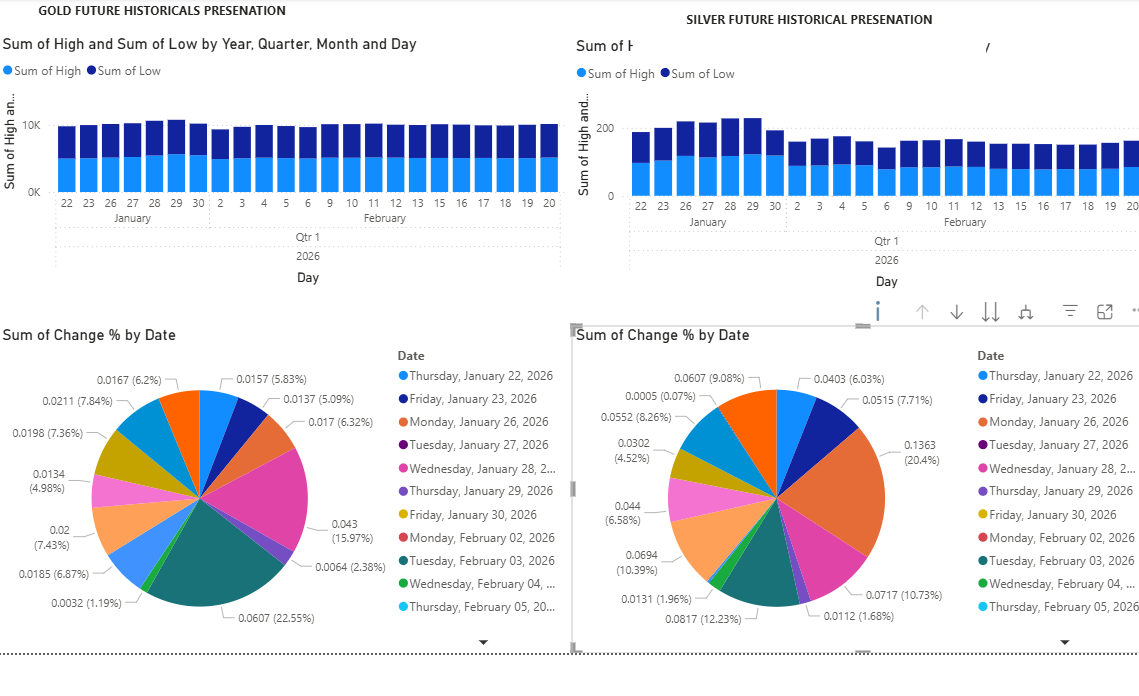

The page's visual inventory and layout, read from the dashboard file:
{"tool":"powerbi","page":{"name":"Page 1","canvas":[1280,720],"ordinal":0},"visuals":[{"type":"columnChart","fields":{"Category":["Gold Futures Historical Data.Date.Variation.Date Hierarchy.Year","Gold Futures Historical Data.Date.Variation.Date Hierarchy.Quarter","Gold Futures Historical Data.Date.Variation.Date Hierarchy.Month","Gold Futures Historical Data.Date.Variation.Date Hierarchy.Day"],"Y":["Sum(Gold Futures Historical Data.High)","Sum(Gold Futures Historical Data.Low)"]},"box":[9.6,39.8,629.8,279.9],"z":0},{"type":"textbox","box":[0,0,340.3,39.8],"z":1000},{"type":"columnChart","fields":{"Y":["Sum(Silver Futures Historical Data.High)","Sum(Silver Futures Historical Data.Low)"],"Category":["Silver Futures Historical Data.Date.Variation.Date Hierarchy.Year","Silver Futures Historical Data.Date.Variation.Date Hierarchy.Quarter","Silver Futures Historical Data.Date.Variation.Date Hierarchy.Month","Silver Futures Historical Data.Date.Variation.Date Hierarchy.Day"]},"box":[639.5,42.5,640.8,281.3],"z":2000},{"type":"textbox","box":[10,330,497,280],"z":3000},{"type":"textbox","box":[706.7,9.6,388.3,65.9],"z":4000},{"type":"pieChart","fields":{"Category":["Gold Futures Historical Data.Date Hierarchy.Date","Gold Futures Historical Data.Date Hierarchy.High","Gold Futures Historical Data.Date Hierarchy.Low","Gold Futures Historical Data.Date Hierarchy.Price"],"Y":["Sum(Gold Futures Historical Data.Change %)"]},"box":[9.6,359.5,629.8,360.9],"z":5000},{"type":"pieChart","fields":{"Category":["Silver Futures Historical Data.Date Hierarchy.Date","Silver Futures Historical Data.Date Hierarchy.High","Silver Futures Historical Data.Date Hierarchy.Low"],"Y":["Sum(Silver Futures Historical Data.Change %)"]},"box":[639.5,359.5,640.5,360.5],"z":6000}]}

Visuals, with their boxes on the page's 1280x720 design canvas (x1, y1, x2, y2). These are canvas units, not pixel positions in the 1139x696 screenshot, which may show the page scaled, cropped or inside an application window:
columnChart - Gold Futures Historical Data.Date.Variation.Date Hierarchy.Year x Gold Futures Historical Data.Date.Variation.Date Hierarchy.Quarter: x1=10, y1=40, x2=639, y2=320
textbox: x1=0, y1=0, x2=340, y2=40
columnChart - Sum(Silver Futures Historical Data.High) x Sum(Silver Futures Historical Data.Low): x1=640, y1=42, x2=1280, y2=324
textbox: x1=10, y1=330, x2=507, y2=610
textbox: x1=707, y1=10, x2=1095, y2=76
pieChart - Gold Futures Historical Data.Date Hierarchy.Date x Gold Futures Historical Data.Date Hierarchy.High: x1=10, y1=360, x2=639, y2=720
pieChart - Silver Futures Historical Data.Date Hierarchy.Date x Silver Futures Historical Data.Date Hierarchy.High: x1=640, y1=360, x2=1280, y2=720
